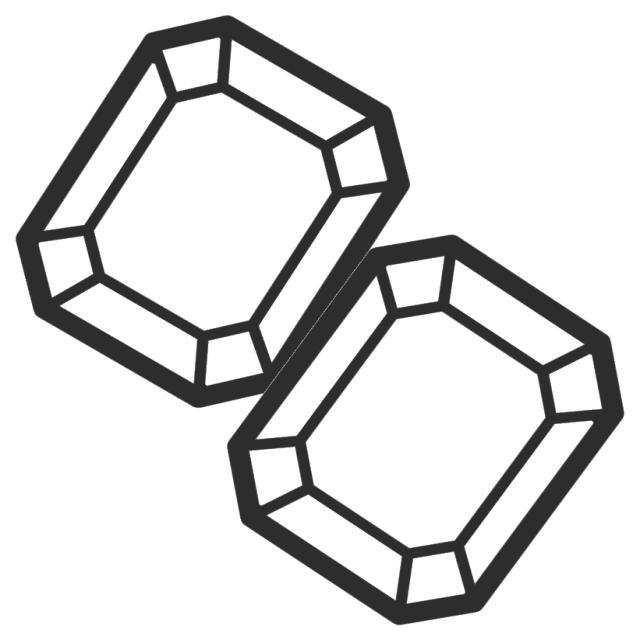emerald: (7, 8, 424, 420), (218, 228, 629, 632)
